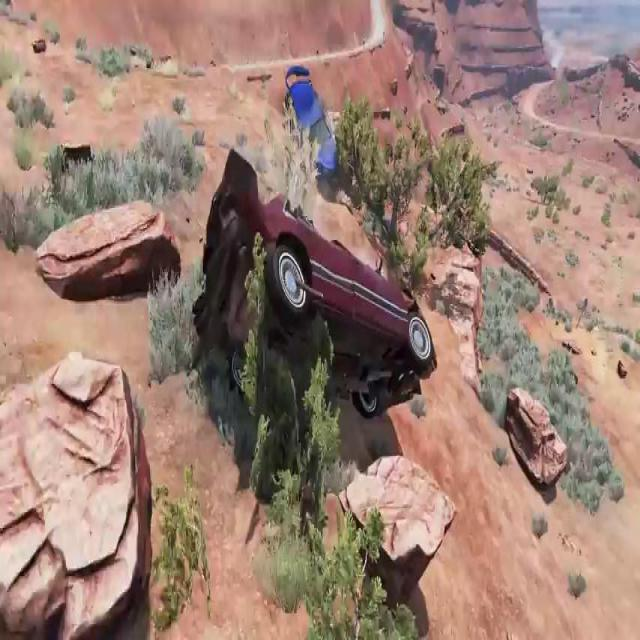severe: (189, 129, 436, 432), (279, 56, 339, 185)
